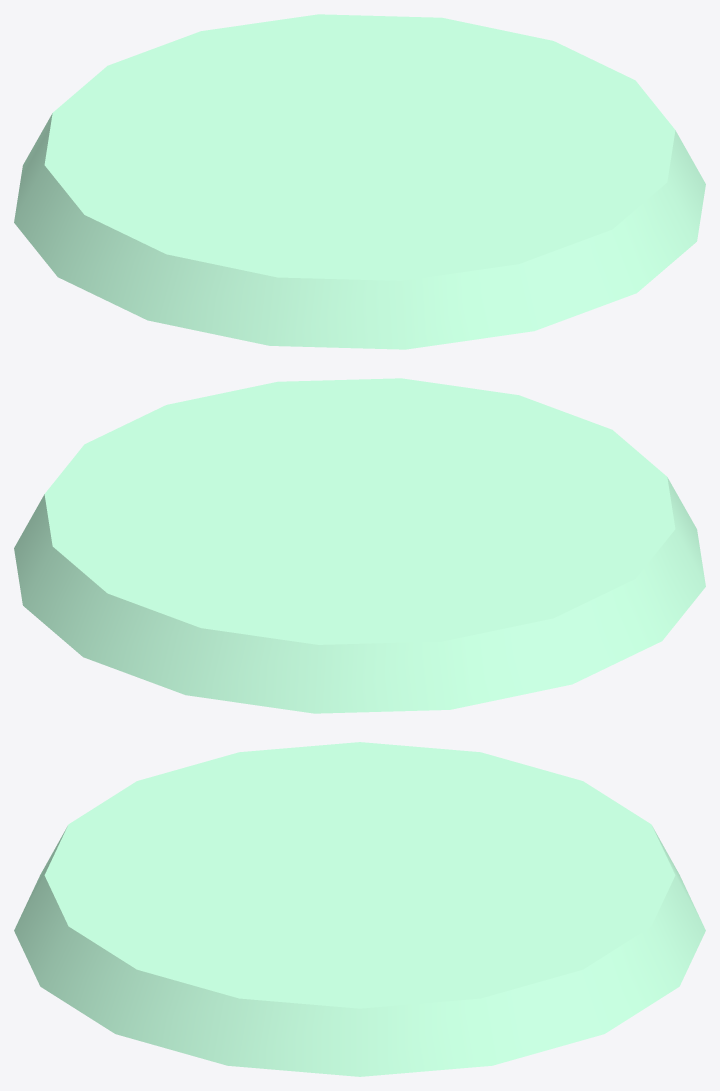
File: well-of-mimir-pool.glb
3 renders of one model, top to bottom at view 1: azimuth 30°, elevation 25°; view 2: azimuth 150°, elevation 25°; view 3: azimuth 270°, elevation 25°, orthographic.
Parts seen in each view (by area): view 1: Well of Mimir Pool; view 2: Well of Mimir Pool; view 3: Well of Mimir Pool.
Boxes of the visible parts, box(x1,y1,x2,y2) form: Well of Mimir Pool: box(14, 14, 705, 349); Well of Mimir Pool: box(14, 378, 705, 713); Well of Mimir Pool: box(14, 742, 705, 1076).
Bounding box in the file's own units: 18.73 × 1.65 × 18.73.
